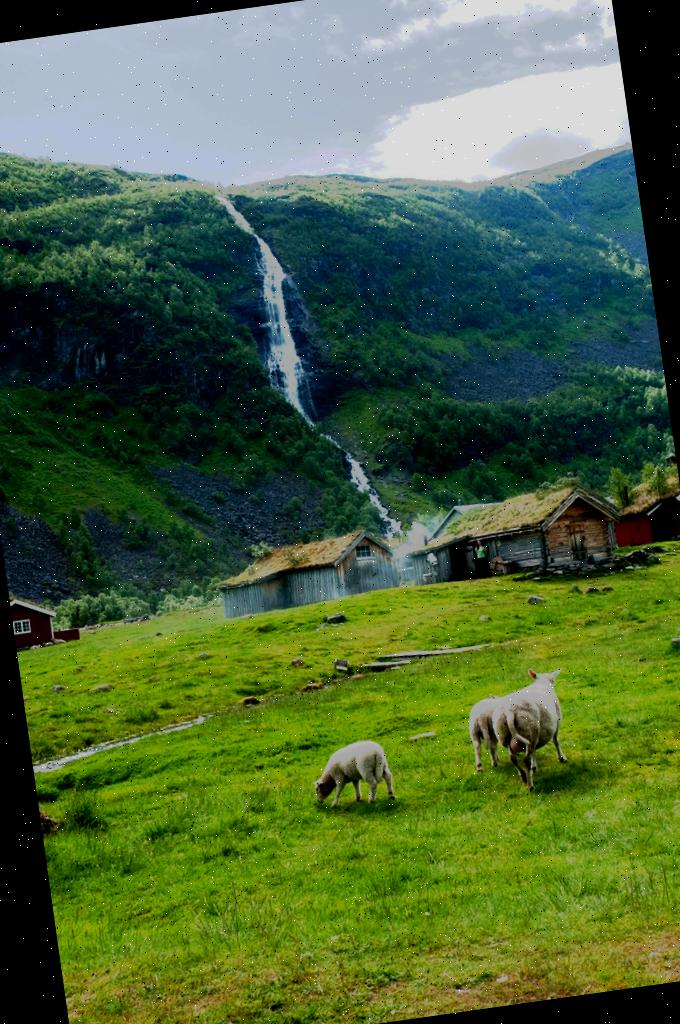Sheep: (488, 668, 573, 796), (312, 734, 414, 826), (464, 691, 506, 774)
